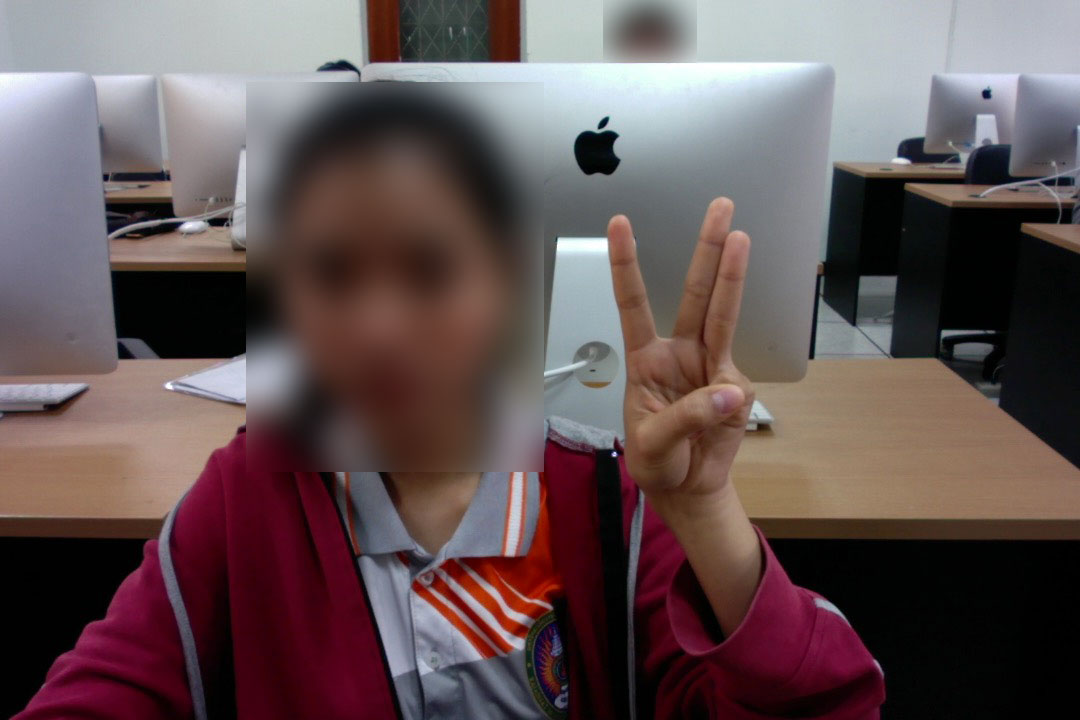wor: (585, 193, 782, 514)
